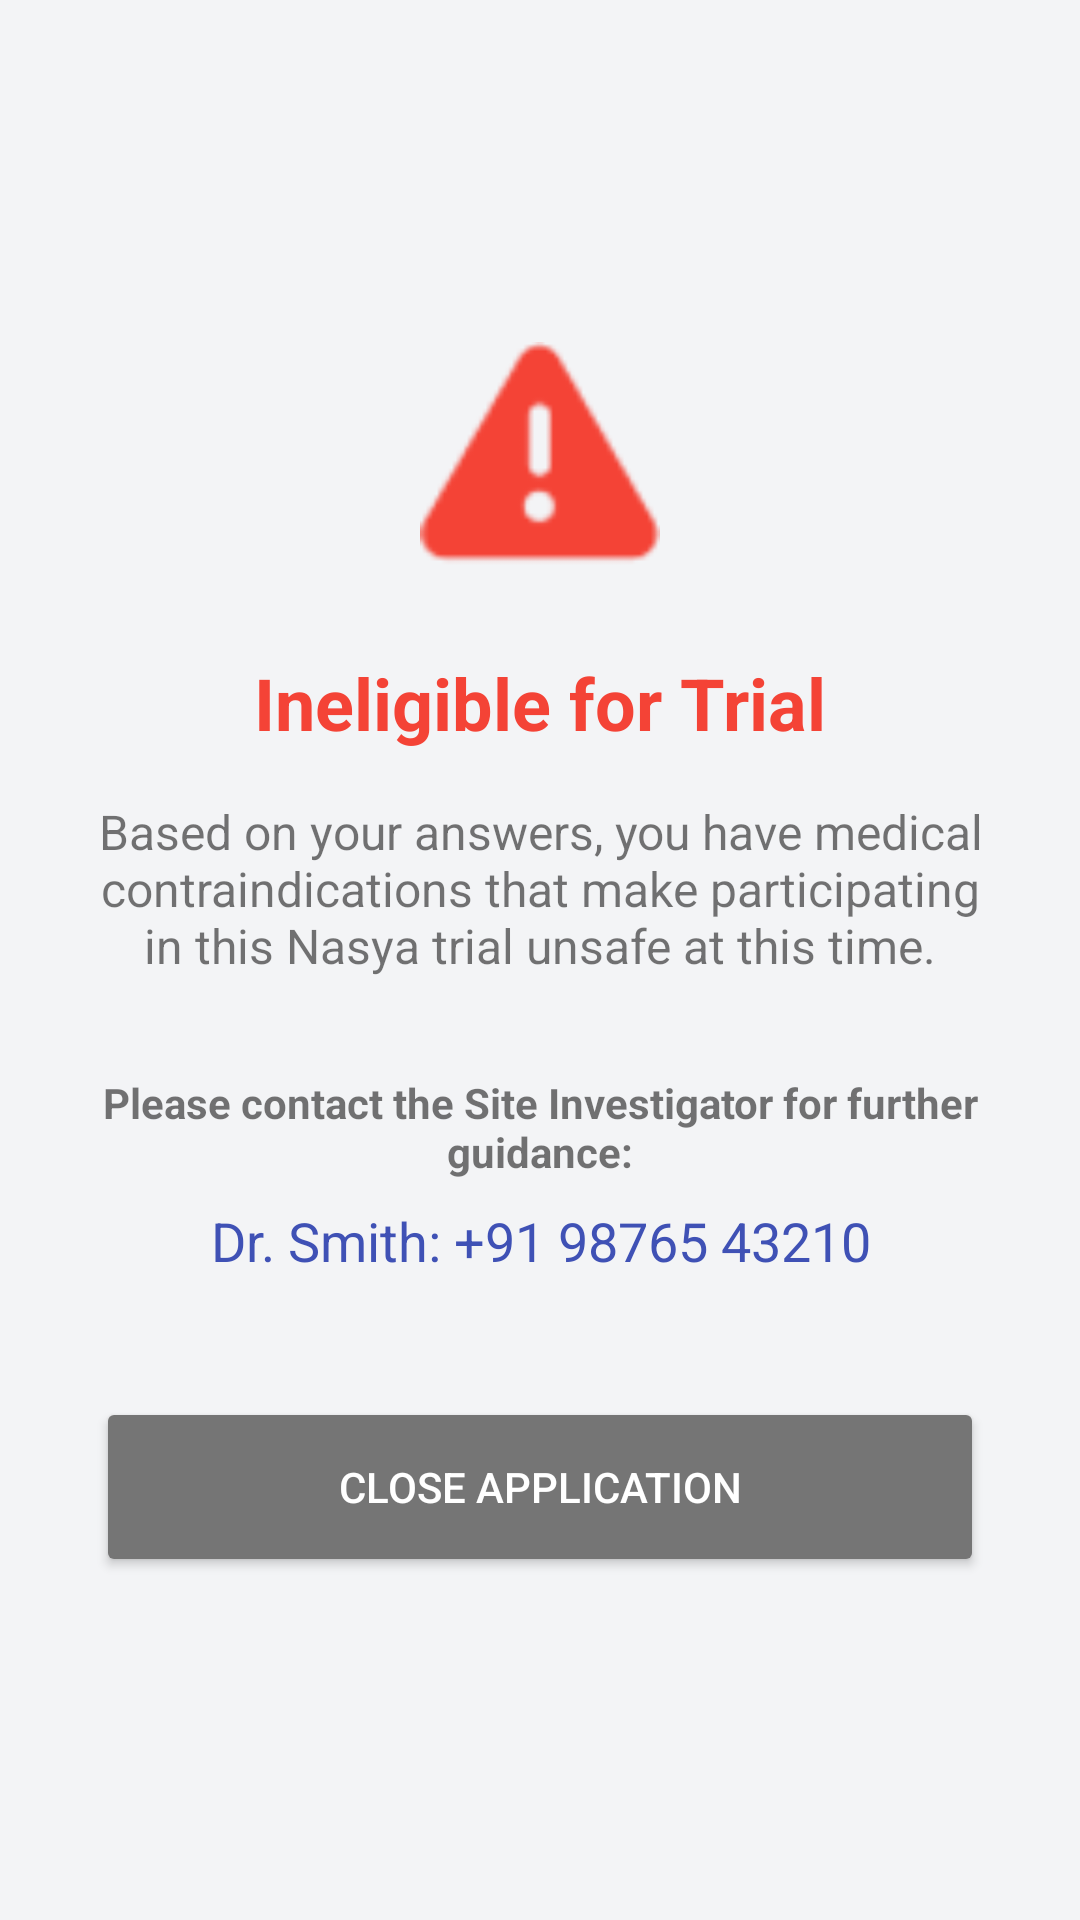

Icon bounding boxes for this 1080 x 1920 phone screenshot, format (x1, y1, x2, y2):
alert: (420, 342, 660, 561)
